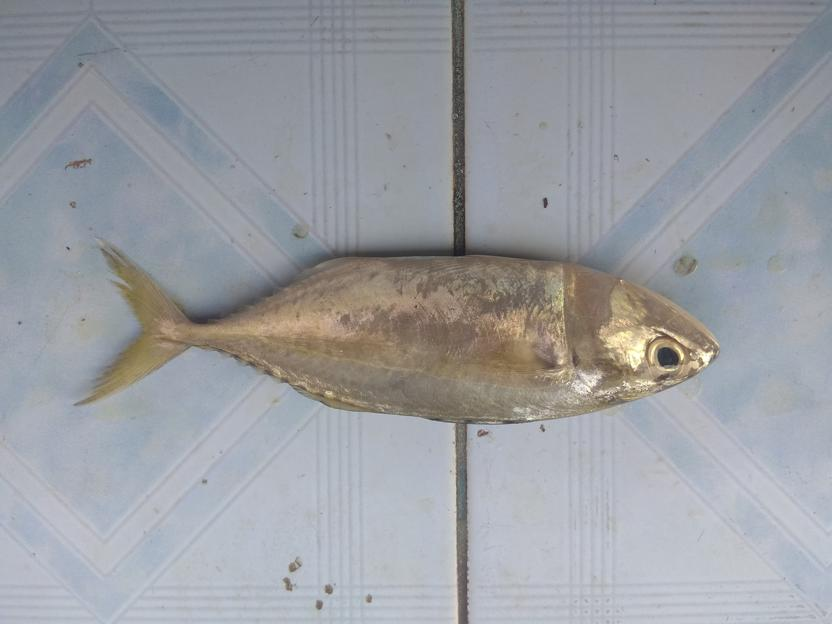Fish head: (564, 259, 722, 419)
Fish tail: (70, 236, 195, 410)
